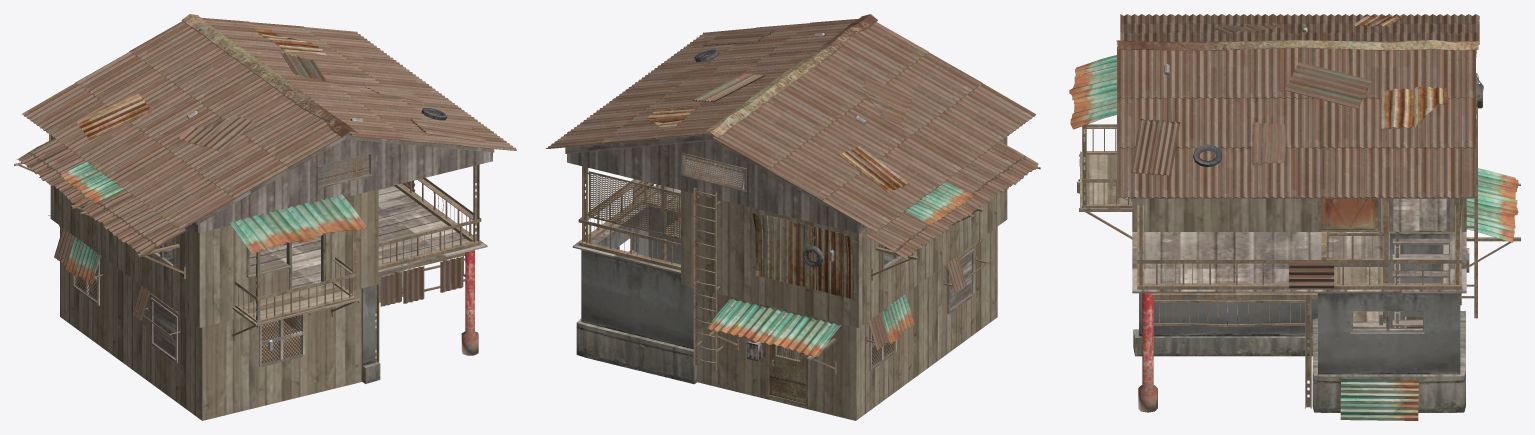
The model's file is casa_vieja.glb.
The picture shows the model from 3 angles, left to right: view 1: azimuth 30°, elevation 25°; view 2: azimuth 150°, elevation 25°; view 3: azimuth 270°, elevation 25°; orthographic projection. The views are drawn at different scales.
Parts seen in each view (by area): view 1: Zinc_zinc_0, WoodWall_woodwall_0, Woods_woods_0, Irons_iron_0, Others_others_0, TilesGlass_tilesglass_0; view 2: Zinc_zinc_0, WoodWall_woodwall_0, Others_others_0, Woods_woods_0, Irons_iron_0, TilesGlass_tilesglass_0; view 3: Zinc_zinc_0, Others_others_0, Woods_woods_0, Irons_iron_0, WoodWall_woodwall_0.
Part boxes in pixels (x1,y1,x2,y2): Zinc_zinc_0: (17, 17, 516, 321); WoodWall_woodwall_0: (50, 135, 378, 420); Woods_woods_0: (21, 133, 494, 367); Irons_iron_0: (14, 162, 481, 362); Others_others_0: (181, 14, 478, 383); TilesGlass_tilesglass_0: (75, 154, 369, 363); Zinc_zinc_0: (545, 19, 1038, 357); WoodWall_woodwall_0: (681, 136, 1007, 420); Others_others_0: (576, 14, 877, 384); Woods_woods_0: (565, 134, 974, 371); Irons_iron_0: (578, 166, 1040, 406); TilesGlass_tilesglass_0: (585, 155, 897, 366); Zinc_zinc_0: (1069, 14, 1518, 420); Others_others_0: (1077, 26, 1483, 412); Woods_woods_0: (1080, 151, 1471, 332); Irons_iron_0: (1079, 73, 1520, 408); WoodWall_woodwall_0: (1132, 198, 1466, 327).
Bounding box in the file's own units: 11.63 × 8.2 × 11.32.
6 materials, 6 textured.
